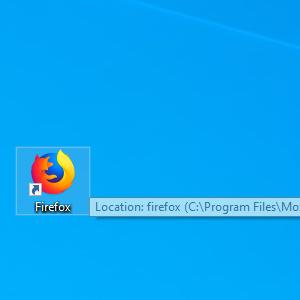firefox: (29, 148, 75, 196)
